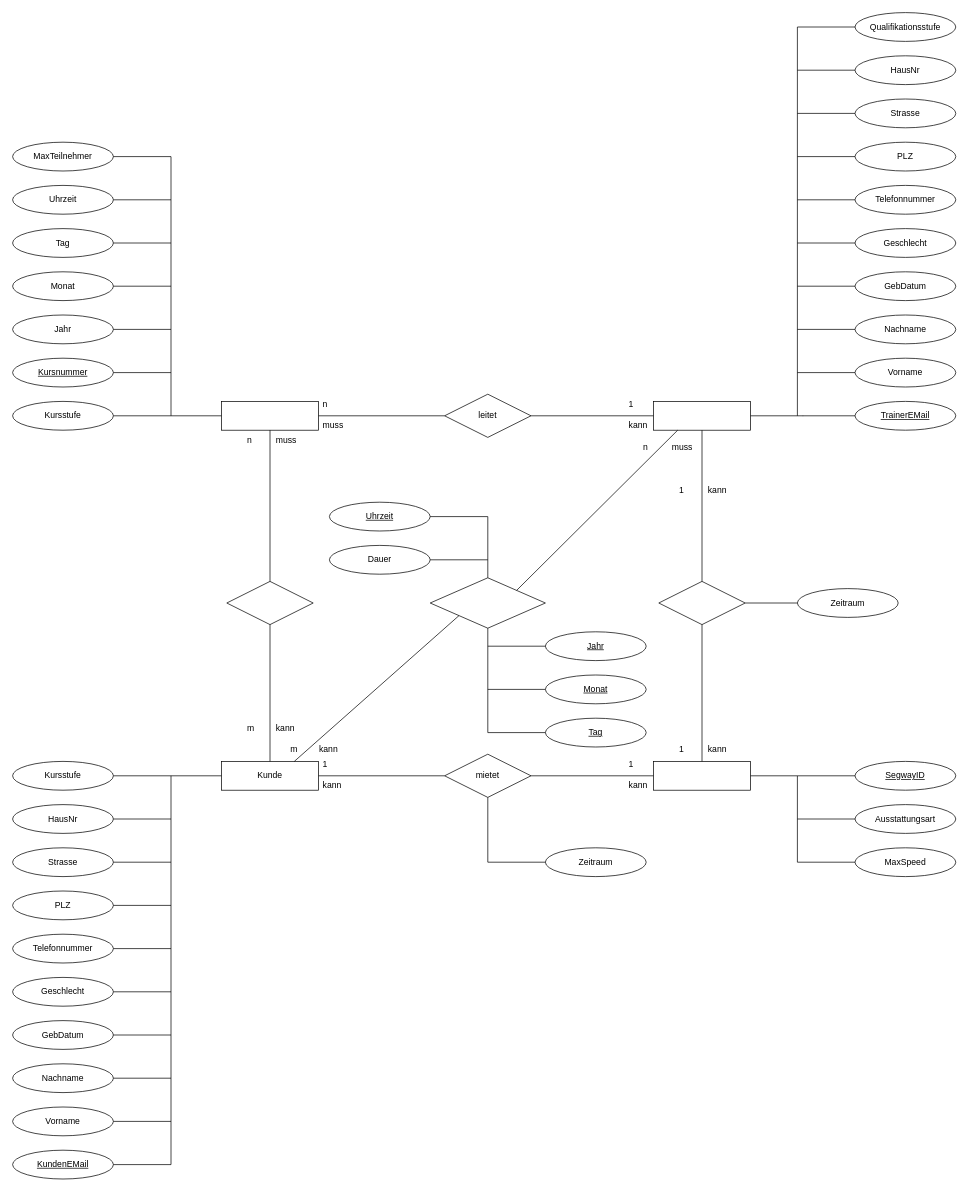
The diagram is 968 pixels wide and 1192 high, and some of its shapes have lost their labels. Here are the shapes that lost their labels. From the top down, the box of each, then its label:
(221, 401, 319, 430): Kurs
(653, 401, 751, 430): Trainer
(226, 581, 313, 625): nimmtTeilAn
(429, 577, 545, 628): trainerstundenBuchen
(658, 581, 745, 625): faehrt
(653, 761, 751, 790): Segway
